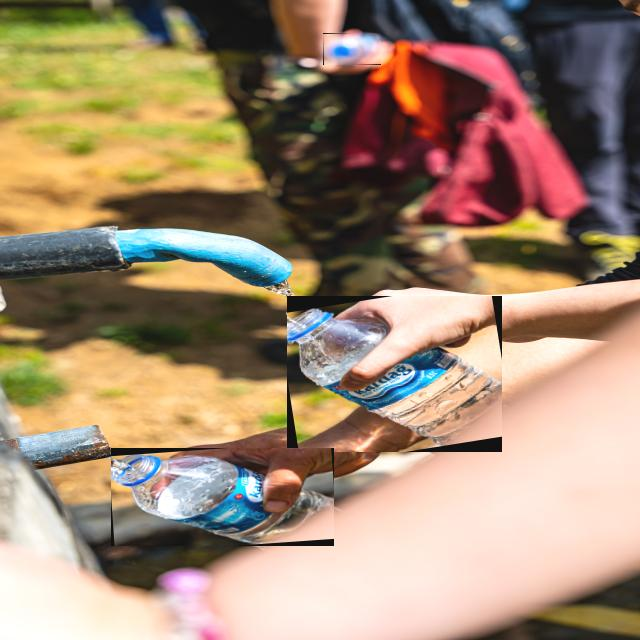Bottle: (288, 297, 502, 451), (112, 449, 333, 546), (324, 33, 381, 65)
